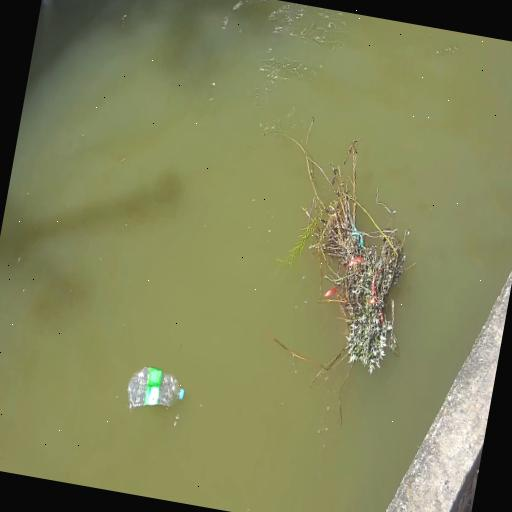plastic: (128, 367, 184, 409)
twig: (262, 117, 415, 404)
